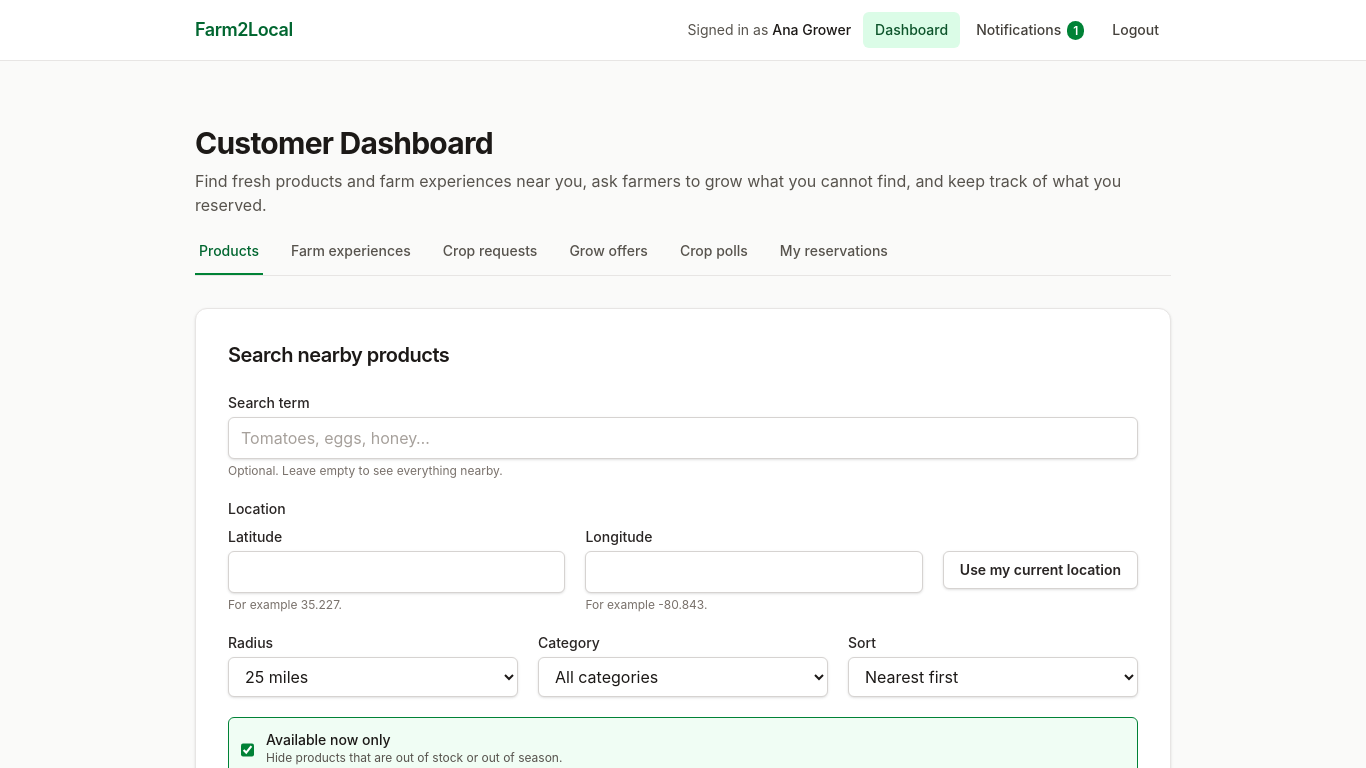
Test: notifications page › is reached from the header link
The width and height of the screenshot is (1366, 768).
Check: the button "Logout" is shown, box x1=1100 y1=12 x2=1171 y2=48
Click the link with aria-label "Notifications, 1 unread". click: [1030, 30]
box: x1=976 y1=21 x2=1084 y2=40
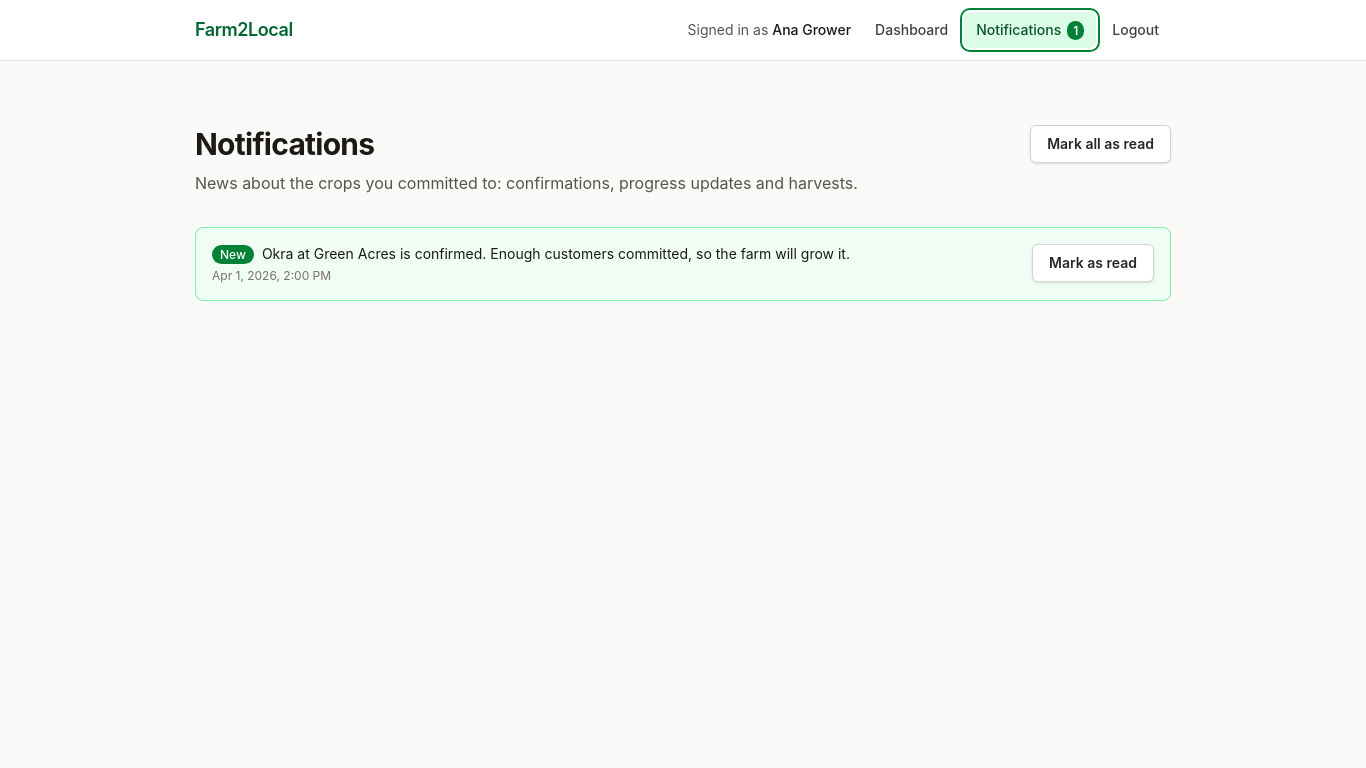
Check: the text "Okra at Green Acres is confirmed. Enough customers committed, so the farm will grow it." is shown, box x1=262 y1=245 x2=850 y2=262
